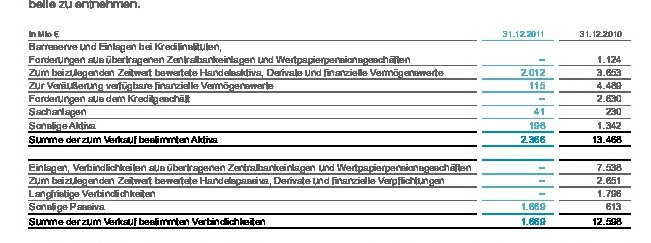table: (0, 0, 651, 243)
